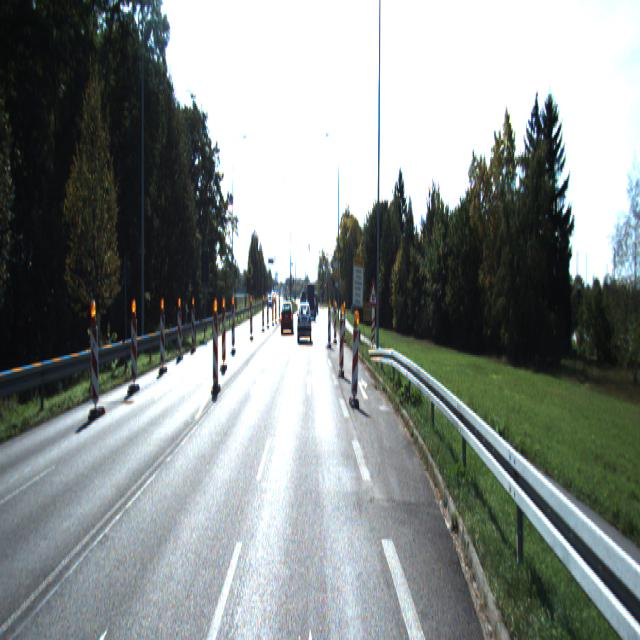Car: (297, 305, 312, 342), (280, 294, 294, 328), (306, 284, 314, 320)
